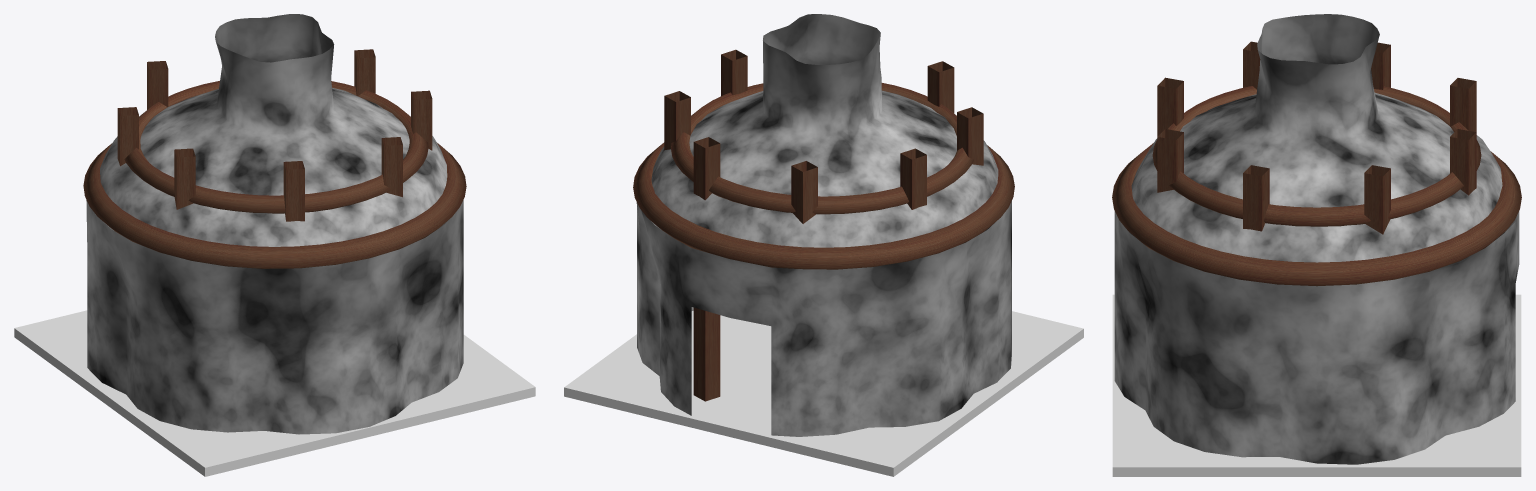
File: ColdRoom.fbx
3 renders of one model, left to right at view 1: azimuth 30°, elevation 25°; view 2: azimuth 150°, elevation 25°; view 3: azimuth 270°, elevation 25°, orthographic. The views are drawn at different scales.
Visible parts, largest first — view 1: ColdRoom; view 2: ColdRoom; view 3: ColdRoom.
Boxes of the visible parts, box(x1,y1,x2,y2) form: ColdRoom: box(14, 14, 535, 476); ColdRoom: box(564, 14, 1083, 476); ColdRoom: box(1112, 14, 1521, 476).
Bounding box in the file's own units: 8.1 × 8.1 × 7.68.
